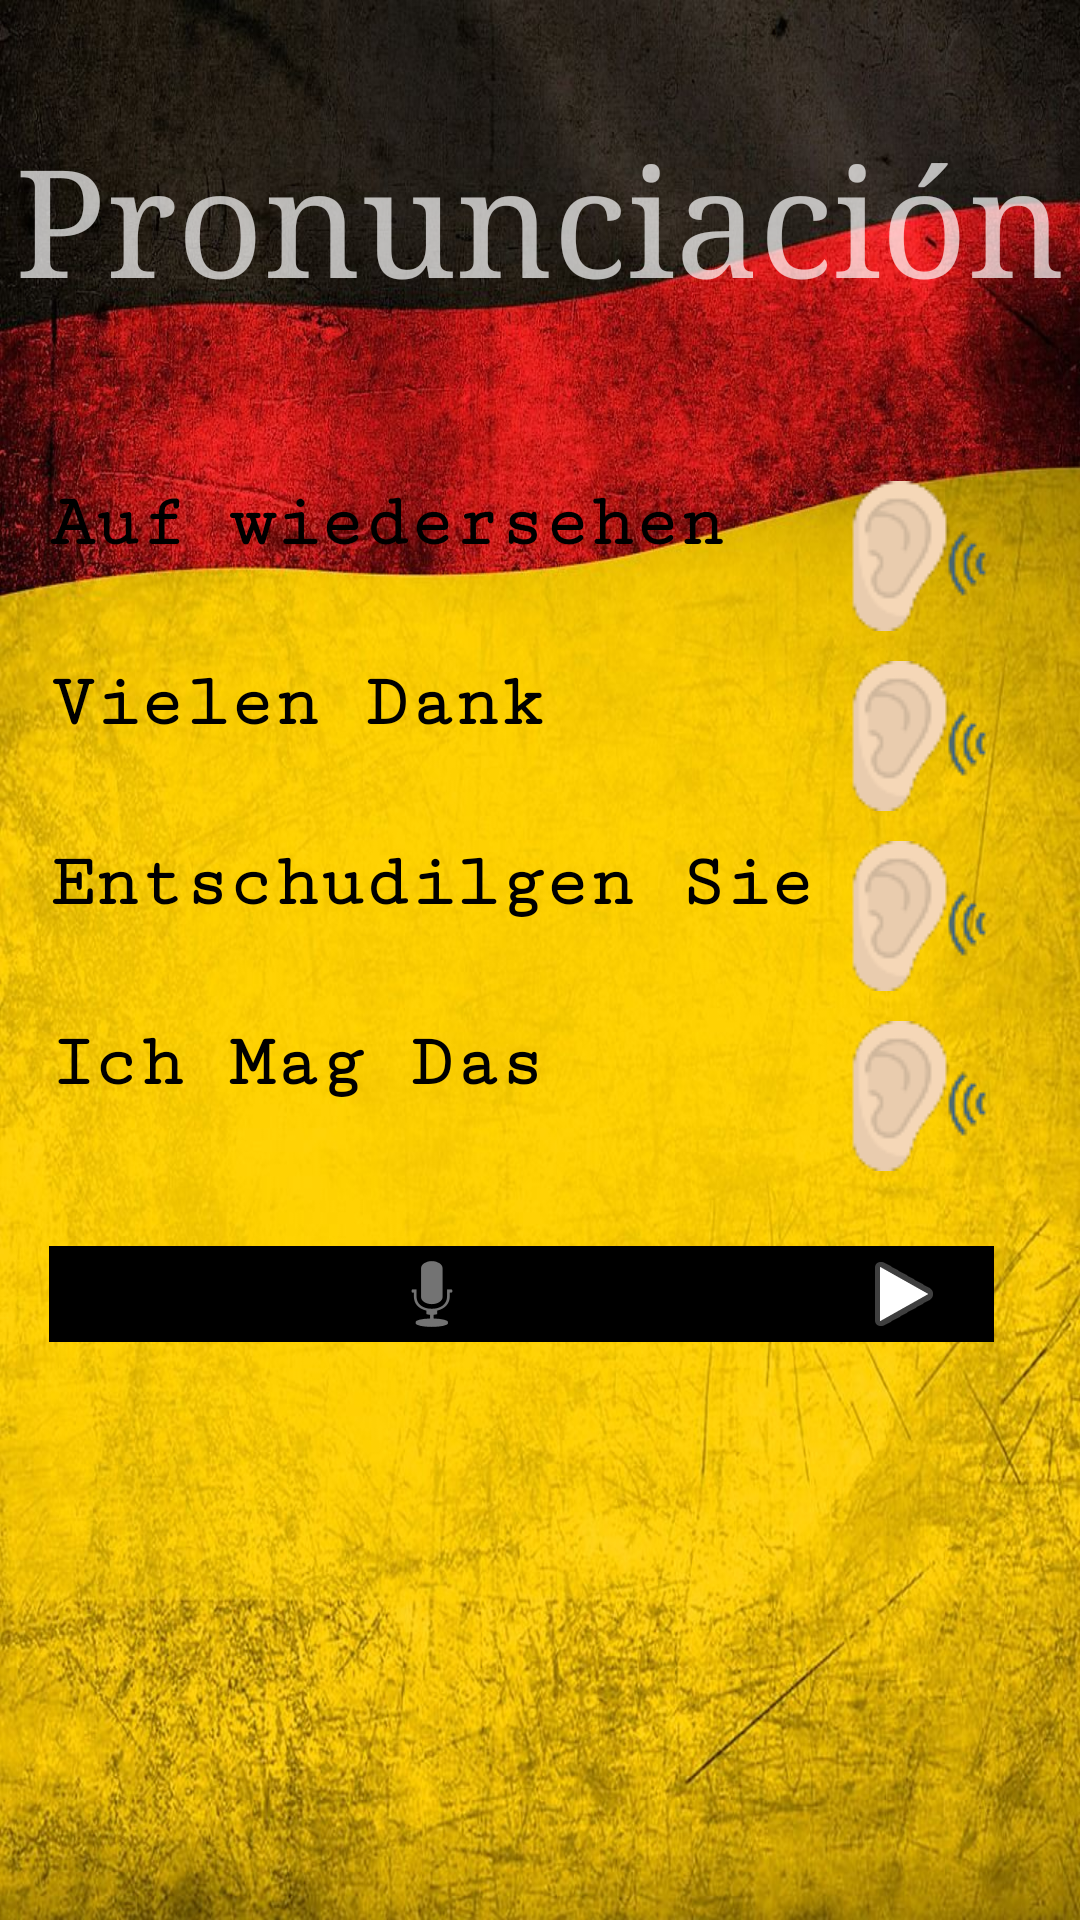

Screen size 1080 × 1920. Icon name, then its center in pixels as (x,y):
oido: (919,556), (923,736), (923,916), (923,1096)
play: (904,1294)
